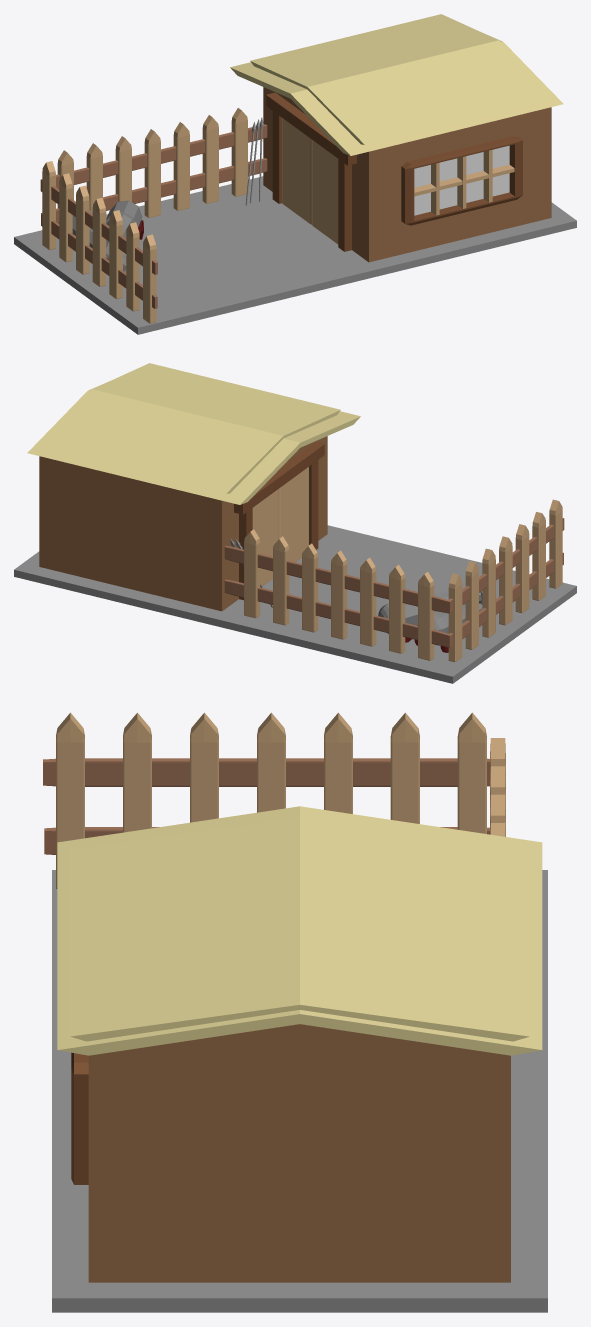
File: true_cannonYard.fbx
3 views of the same model, one above another, from view 1: azimuth 30°, elevation 25°; view 2: azimuth 150°, elevation 25°; view 3: azimuth 270°, elevation 25° (orthographic). The views are drawn at different scales.
Parts seen in each view (by area): view 1: Cube.002, Cube.004, Cube, Cube.014, Cube.011, Cube.001, Cube.003, Cube.005, Cube.008, Cube.009, Cube.006, Cube.007 (+2 smaller); view 2: Cube, Cube.004, Cube.002, Cube.014, Cube.011, Cube.003, Cube.001, Cube.007, Cube.006, Cylinder.003; view 3: Cube, Cube.004, Cube.002, Cube.014, Cube.003, Cube.011, Cube.005.
Boxes of the visible parts, bbox=[...] form: Cube.002: bbox=[14, 176, 576, 334]; Cube.004: bbox=[250, 14, 555, 144]; Cube: bbox=[263, 87, 551, 262]; Cube.014: bbox=[42, 108, 247, 323]; Cube.011: bbox=[40, 124, 267, 308]; Cube.001: bbox=[282, 118, 338, 244]; Cube.003: bbox=[230, 35, 563, 155]; Cube.005: bbox=[401, 136, 522, 225]; Cube.008: bbox=[414, 145, 509, 215]; Cube.009: bbox=[414, 150, 514, 215]; Cube.006: bbox=[272, 111, 351, 251]; Cube.007: bbox=[266, 92, 356, 165]; Cube: bbox=[39, 436, 327, 611]; Cube.004: bbox=[35, 363, 340, 493]; Cube.002: bbox=[14, 525, 576, 683]; Cube.014: bbox=[244, 499, 562, 662]; Cube.011: bbox=[224, 518, 564, 647]; Cube.003: bbox=[27, 384, 360, 504]; Cube.001: bbox=[252, 467, 308, 587]; Cube.007: bbox=[234, 441, 324, 514]; Cube.006: bbox=[239, 460, 318, 600]; Cylinder.003: bbox=[378, 591, 482, 633]; Cube: bbox=[88, 1024, 510, 1282]; Cube.004: bbox=[70, 818, 529, 1041]; Cube.002: bbox=[52, 870, 547, 1312]; Cube.014: bbox=[56, 712, 505, 888]; Cube.003: bbox=[57, 806, 542, 1055]; Cube.011: bbox=[43, 758, 489, 854]; Cube.005: bbox=[71, 1052, 88, 1184].
Size of the model in its own units: 1503 by 478 by 749.
